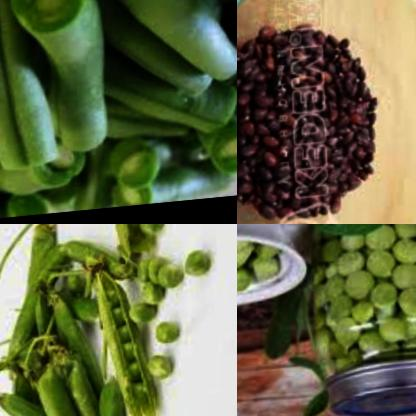fasol: (0, 0, 237, 224), (237, 10, 388, 224)
peas: (0, 224, 124, 416), (310, 224, 416, 376), (88, 267, 151, 416), (129, 265, 182, 386), (237, 240, 283, 309), (174, 232, 218, 302), (96, 224, 166, 266)
